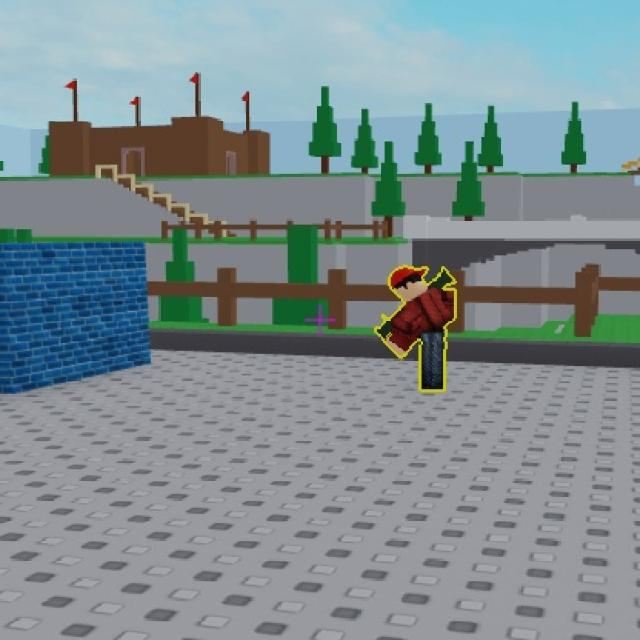player: (376, 262, 462, 386)
